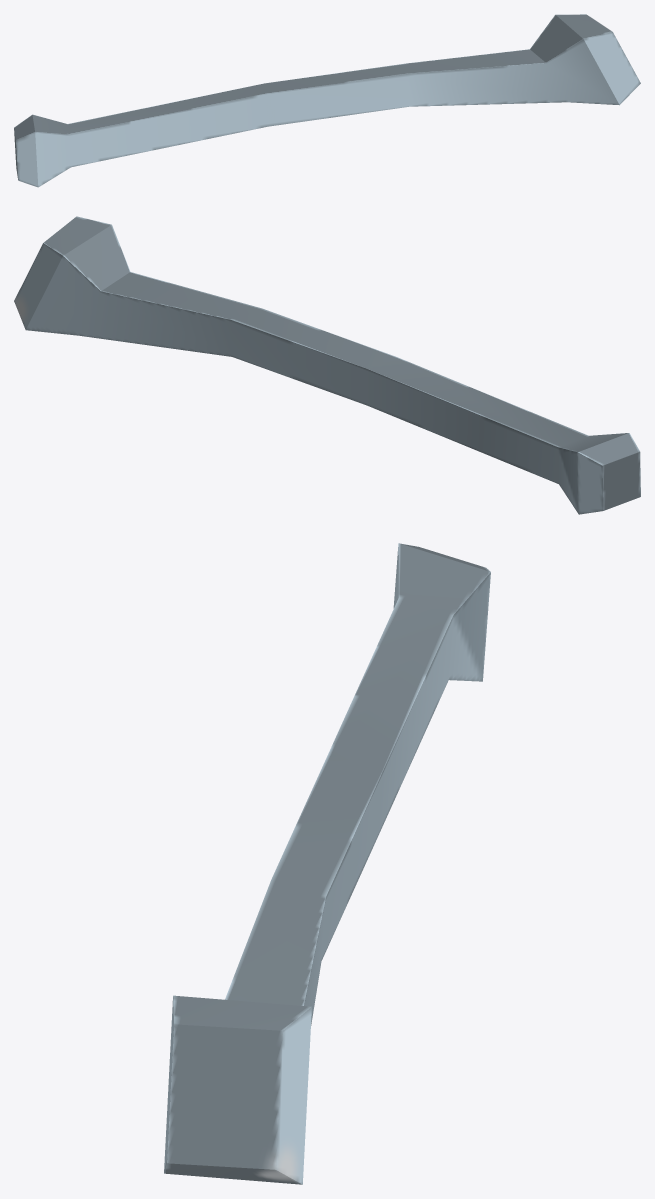
The model's file is Bone1.fbx.
The picture shows the model from 3 angles, top to bottom: view 1: azimuth 30°, elevation 25°; view 2: azimuth 150°, elevation 25°; view 3: azimuth 270°, elevation 25°; orthographic projection. The views are drawn at different scales.
Parts seen in each view (by area): view 1: Bone001; view 2: Bone001; view 3: Bone001.
Part boxes in pixels (x1,y1,x2,y2): Bone001: [14, 14, 640, 187]; Bone001: [14, 216, 640, 514]; Bone001: [164, 543, 490, 1184].
Size of the model in its own units: 12.21 by 3.07 by 1.55.
